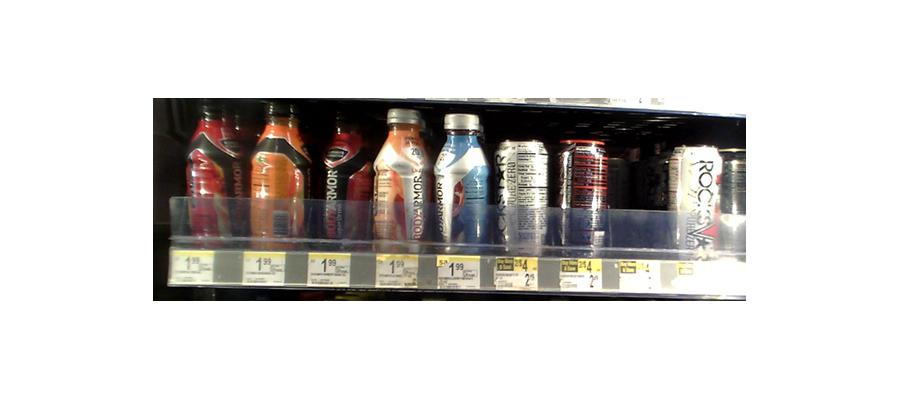bottle: (247, 98, 309, 244), (185, 96, 245, 243), (371, 105, 430, 252), (433, 109, 490, 255), (318, 108, 368, 245), (497, 137, 552, 256), (558, 139, 612, 256), (671, 143, 719, 256)
